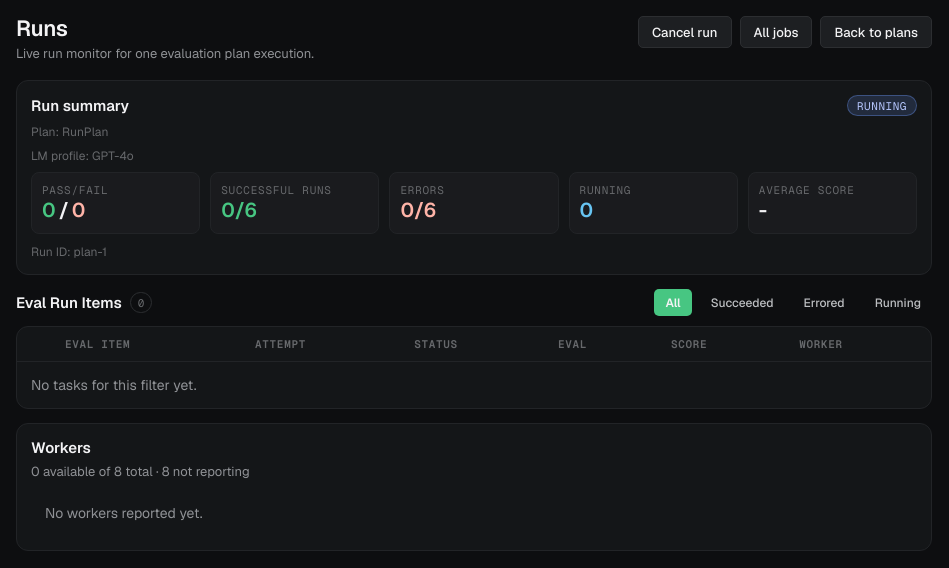
Scenario: RunsPage › cancels a run from detail view
What coordinates should you click on to do the following:
click the button "Cancel run"
I would click on:
 (685, 32)
Its box is 638,16 -> 732,48.
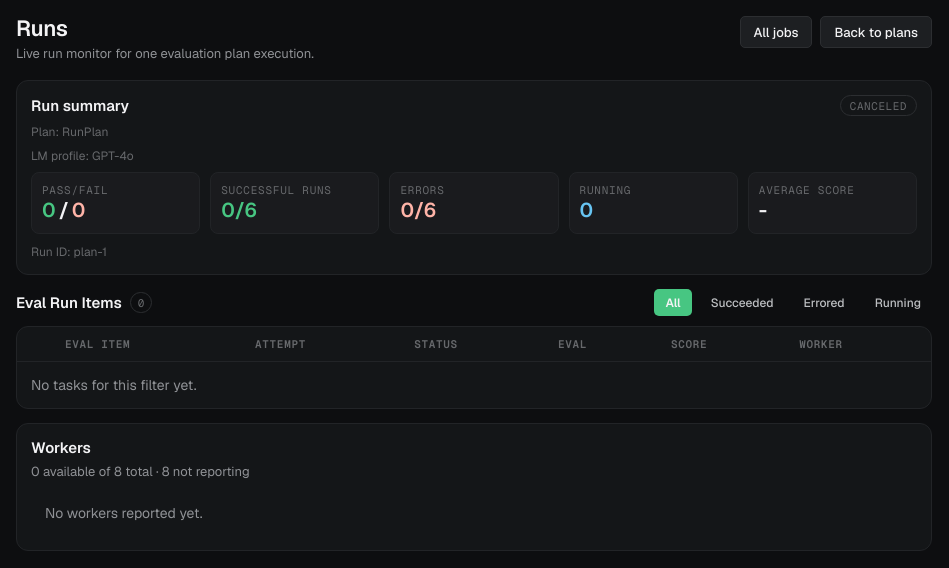
Result: the text "canceled" is shown at 840,95 -> 917,116
Result: the button "Cancel run" is gone
